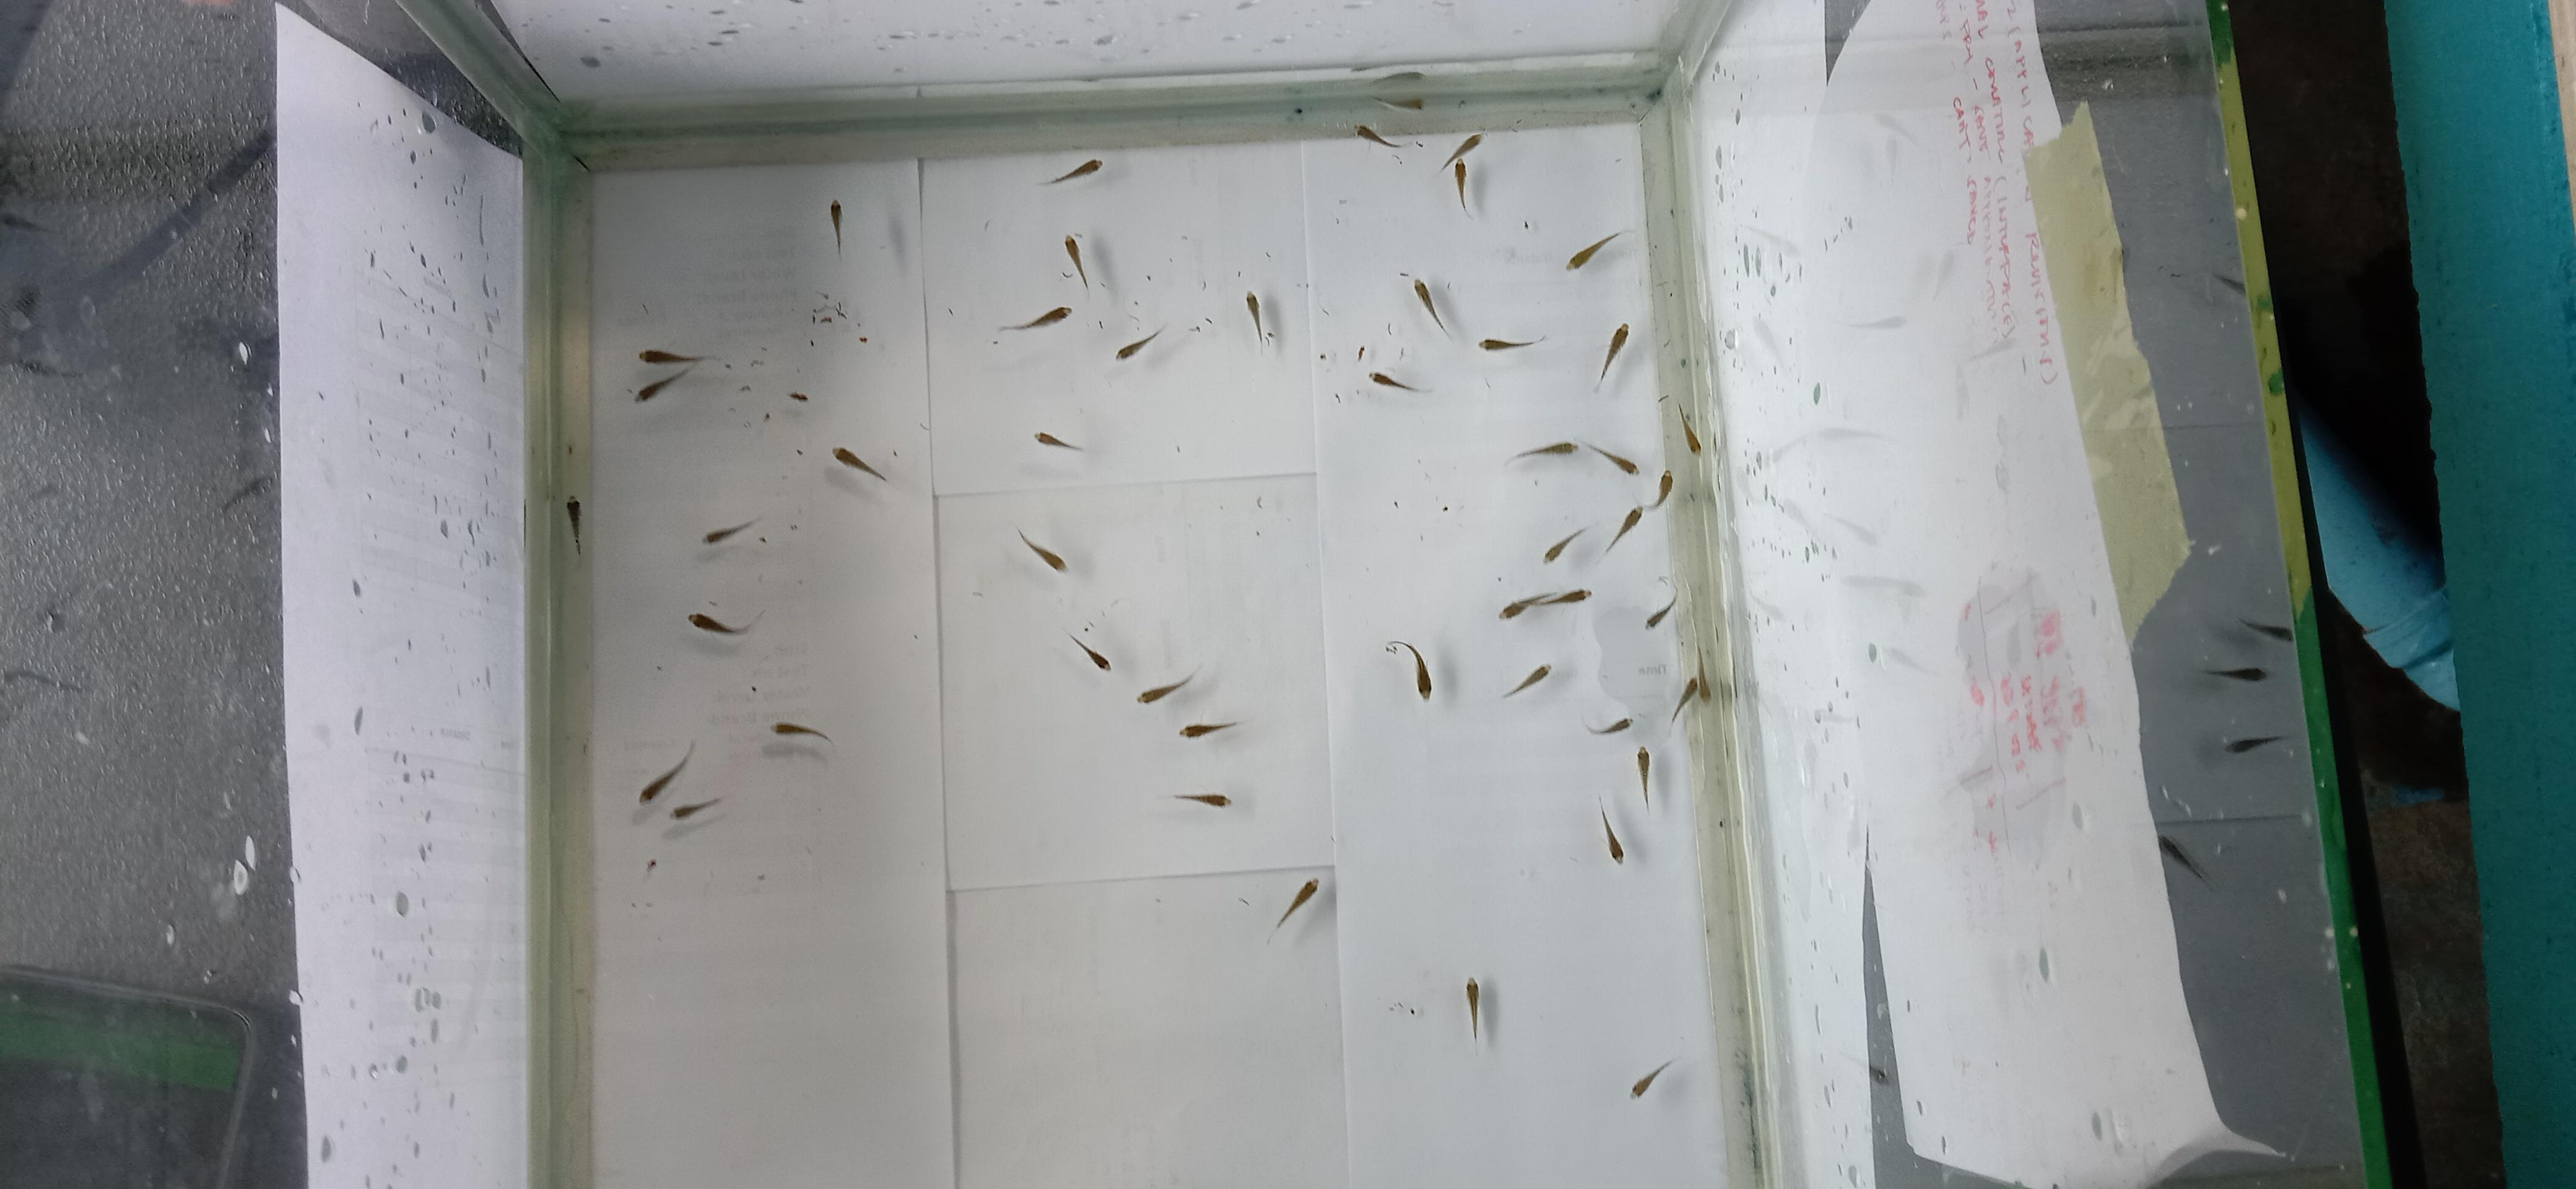fish: (638, 739, 694, 805), (1440, 132, 1482, 214), (1385, 640, 1433, 700), (1566, 229, 1624, 272), (1273, 878, 1318, 931), (1412, 277, 1450, 338), (1138, 667, 1197, 705), (1017, 527, 1066, 572), (832, 445, 887, 484), (1597, 322, 1629, 388), (633, 368, 693, 403), (1583, 440, 1638, 476), (1630, 1056, 1674, 1099), (1000, 305, 1071, 331), (1501, 663, 1551, 699), (1606, 505, 1642, 553), (1115, 325, 1165, 360), (1543, 526, 1588, 564), (1505, 440, 1577, 464), (1440, 132, 1482, 172), (1069, 632, 1110, 671), (564, 489, 590, 552), (1045, 157, 1102, 185), (1063, 233, 1089, 291), (1542, 588, 1608, 612), (1245, 290, 1273, 344), (1599, 803, 1624, 863), (772, 721, 832, 746), (1670, 675, 1699, 726), (703, 518, 757, 545), (1369, 369, 1427, 393), (1478, 333, 1548, 352), (1409, 647, 1434, 700), (671, 796, 723, 821), (1677, 404, 1702, 455), (1180, 720, 1240, 740), (1355, 123, 1399, 149), (640, 348, 705, 365), (1464, 977, 1482, 1040), (1636, 745, 1653, 809), (1645, 594, 1675, 630), (1034, 430, 1082, 451), (1583, 713, 1631, 735), (690, 612, 738, 634), (1454, 160, 1473, 212), (1174, 792, 1230, 808), (1650, 469, 1673, 508), (1500, 593, 1533, 620), (829, 198, 843, 255), (1033, 305, 1070, 327)
